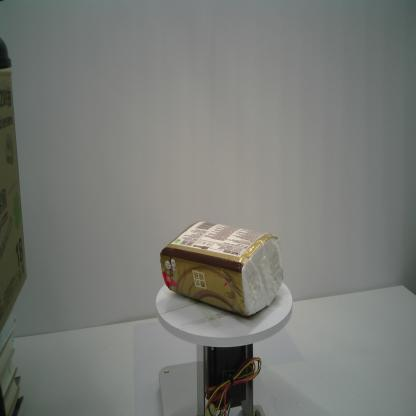Tissue: (160, 221, 284, 316)
